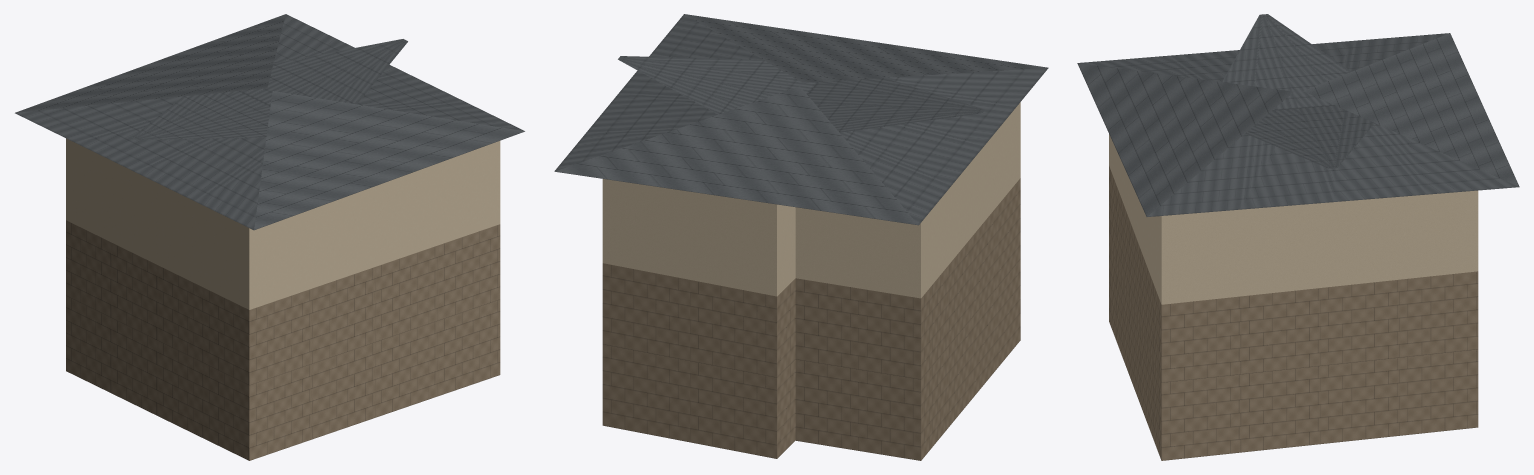
Rendered from bld_c37_35_294.gltf.
3 renders of one model, left to right at view 1: azimuth 30°, elevation 25°; view 2: azimuth 150°, elevation 25°; view 3: azimuth 270°, elevation 25°, orthographic. The views are drawn at different scales.
Parts seen in each view (by area): view 1: bld_c37_35_294; view 2: bld_c37_35_294; view 3: bld_c37_35_294.
Part boxes in pixels (bbox=[...]): bld_c37_35_294: bbox=[15, 14, 524, 460]; bld_c37_35_294: bbox=[554, 14, 1048, 460]; bld_c37_35_294: bbox=[1077, 14, 1519, 460].
Size of the model in its own units: 11.71 by 8.5 by 11.89.
3 materials, 3 textured.
